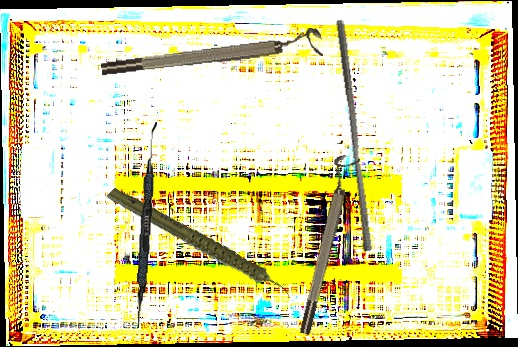Fixation Ring: (288, 152, 361, 337), (99, 26, 324, 80)
Handpiece: (105, 154, 294, 337)
Pusher: (326, 19, 381, 252)
Spatula Surgical: (134, 121, 158, 329)
